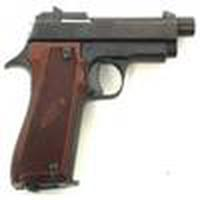gun: (2, 9, 200, 182)
